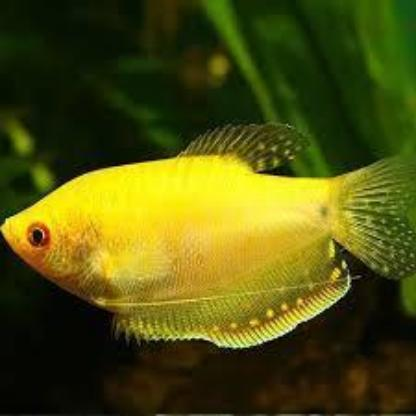gurame: (4, 145, 408, 340)
